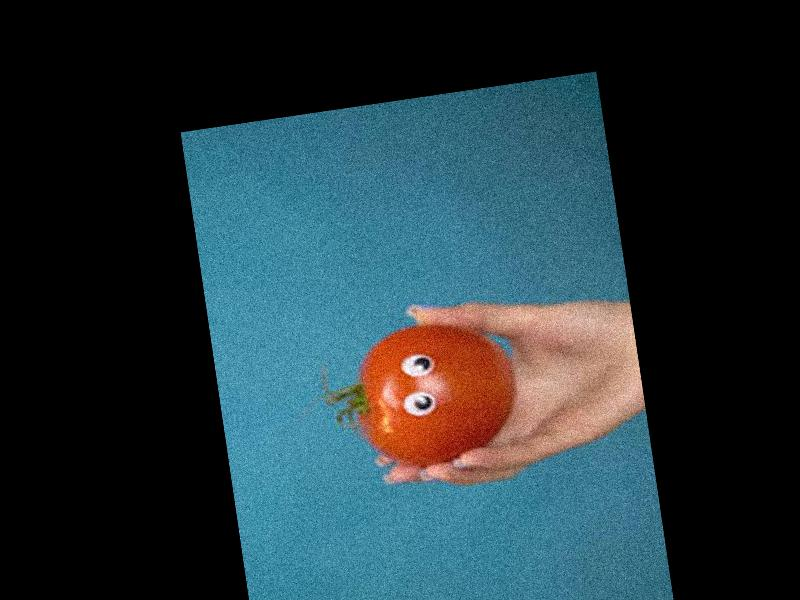Tomato: (344, 311, 526, 476)
